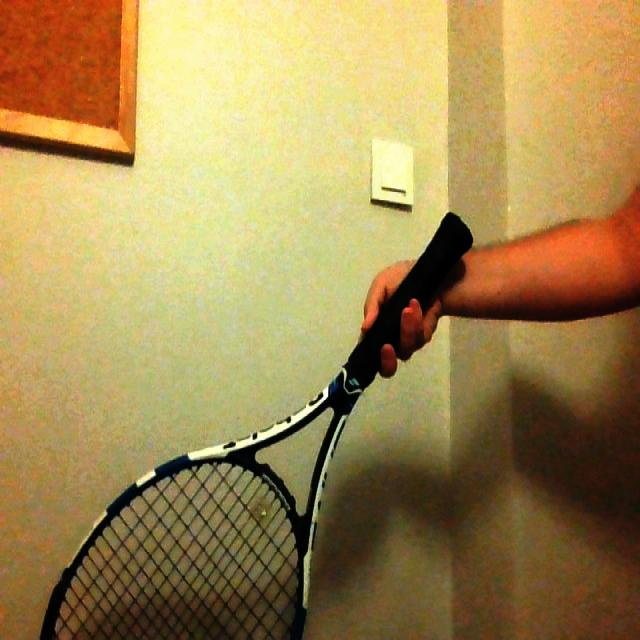TennisRacket: (43, 215, 469, 640)
